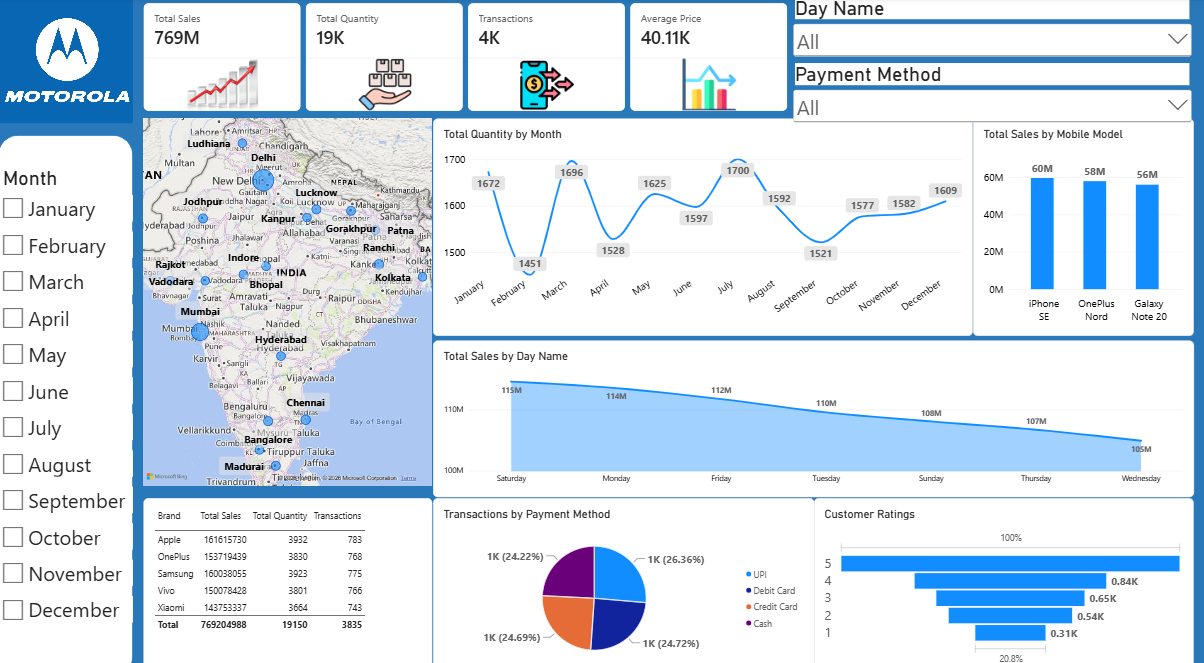

The dashboard page shown, as its layout file describes it:
{"tool":"powerbi","page":{"name":"Page 1","canvas":[1920,1080],"ordinal":0},"visuals":[{"type":"shape","box":[0,219.5,214.7,861.3],"z":0},{"type":"image","box":[0,0,214.7,200.4],"z":1000},{"type":"slicer","fields":{"Values":["Sales_Data.Date.Variation.Date Hierarchy.Month"]},"box":[0,269.6,214.7,773],"z":2000},{"type":"cardVisual","fields":{"Data":["Sales_Data.Total_Sales","Sales_Data.Total Quantity","Sales_Data.Transactions","Sales_Data.Average Price"]},"box":[232.4,8.5,1026.1,172.9],"z":3000},{"type":"map","fields":{"Category":["Sales_Data.City"],"Size":["Sales_Data.Total Sales"]},"box":[232.4,192.8,459.2,583.9],"z":4000},{"type":"columnChart","fields":{"Category":["Sales_Data.Mobile Model"],"Y":["Sales_Data.Total Sales"]},"box":[1550.6,192.8,351.5,345.8],"z":5000},{"type":"lineChart","fields":{"Category":["Sales_Data.Date.Variation.Date Hierarchy.Month","Sales_Data.Date.Variation.Date Hierarchy.Day"],"Y":["Sales_Data.Total Quantity"]},"box":[691.7,192.8,858.9,345.8],"z":6000},{"type":"pieChart","fields":{"Category":["Sales_Data.Payment Method"],"Y":["Sales_Data.Transactions"]},"box":[691.7,796.5,606.6,283.5],"z":6001},{"type":"funnel","title":" Customer Ratings","fields":{"Category":["Sales_Data.Customer Ratings"],"Y":["CountNonNull(Sales_Data.Customer Ratings)"]},"box":[1298.3,796.5,603.8,283.5],"z":6002},{"type":"areaChart","fields":{"Category":["Sales_Data.Day Name"],"Y":["Sales_Data.Total Sales"]},"box":[691.7,547.1,1210.4,249.5],"z":6003},{"type":"tableEx","fields":{"Values":["Sales_Data.Brand","Sales_Data.Total Sales","Sales_Data.Total Quantity","Sales_Data.Transactions"]},"box":[232.4,796.5,459.2,283.5],"z":6004},{"type":"slicer","fields":{"Values":["Sales_Data.Payment Method"]},"box":[1258.6,104.9,643.5,96.4],"z":6006},{"type":"slicer","fields":{"Values":["Sales_Data.Day Name"]},"box":[1258.6,0,643.5,104.9],"z":6007}]}

Visuals, with their boxes in screenshot pixels (x1, y1, x2, y2), scaled from the page's 1920x1080 canvas onto the 1204x663 screenshot:
shape: box(0, 135, 135, 662)
image: box(0, 0, 135, 123)
slicer - Sales_Data.Date.Variation.Date Hierarchy.Month: box(0, 166, 135, 640)
cardVisual - Sales_Data.Total_Sales x Sales_Data.Total Quantity: box(146, 5, 789, 111)
map - Sales_Data.City x Sales_Data.Total Sales: box(146, 118, 434, 477)
columnChart - Sales_Data.Mobile Model x Sales_Data.Total Sales: box(972, 118, 1193, 331)
lineChart - Sales_Data.Date.Variation.Date Hierarchy.Month x Sales_Data.Date.Variation.Date Hierarchy.Day: box(434, 118, 972, 331)
pieChart - Sales_Data.Payment Method x Sales_Data.Transactions: box(434, 489, 814, 662)
" Customer Ratings" funnel: box(814, 489, 1193, 662)
areaChart - Sales_Data.Day Name x Sales_Data.Total Sales: box(434, 336, 1193, 489)
tableEx - Sales_Data.Brand x Sales_Data.Total Sales: box(146, 489, 434, 662)
slicer - Sales_Data.Payment Method: box(789, 64, 1193, 124)
slicer - Sales_Data.Day Name: box(789, 0, 1193, 64)
